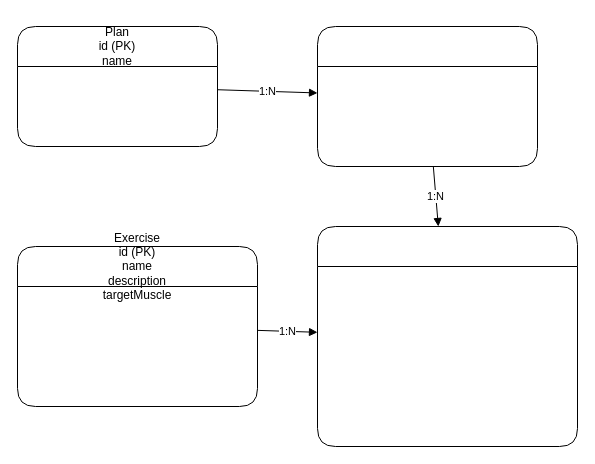
This 595x464 diagram has some shape labels left out. The centre of each missing label's shape, as x and y in pixels:
Training id (PK) workoutId (FK) exerciseId (FK) sets reps restSeconds rpe: (447,336)
Workout id (PK) name planId (FK): (427,96)
